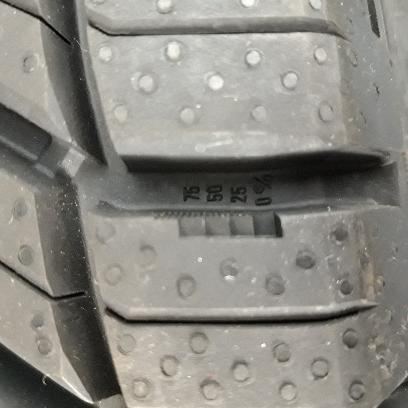temoin:100: (150, 207, 286, 244)
